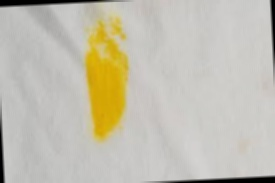mustard: (77, 18, 138, 139)
